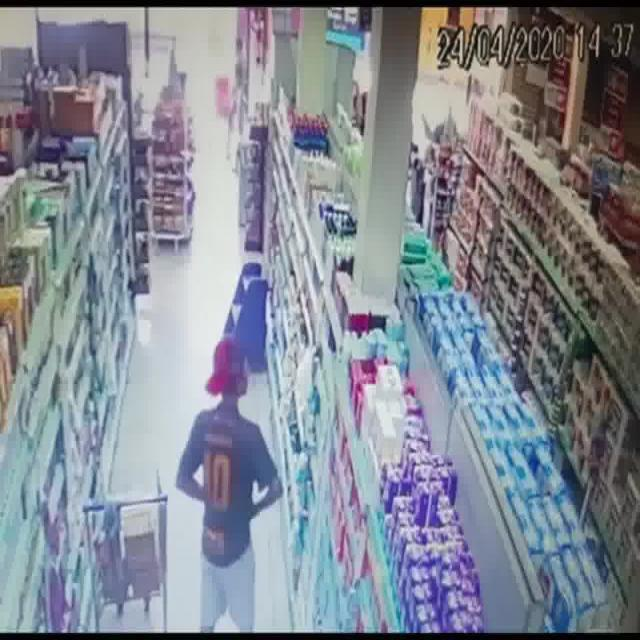Shoplifting: (173, 330, 288, 614)
